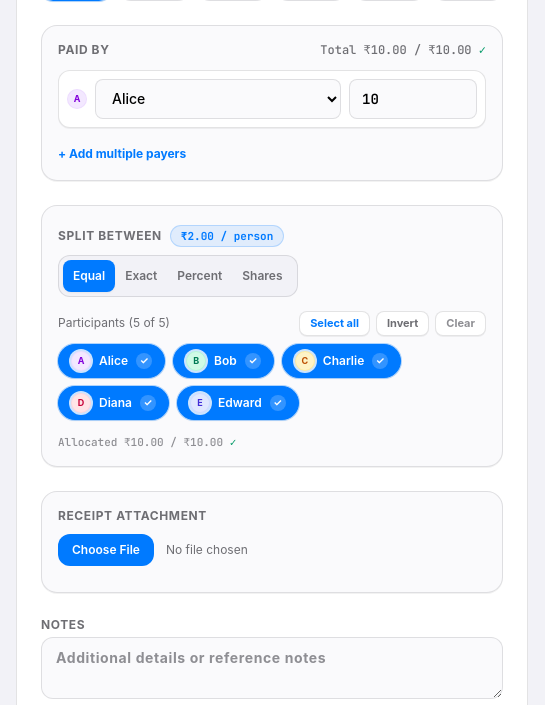
Test: Adversarial Stress Testing: Interactive State Machines & User Events › 2. Participant Chip Combinations and Boundary States › single participant toggle: 1 participant takes 100% of expense in equal mode
(page scrolled)
# Clear all then select only Diana
What coordinates should you click on to do the following:
click the button "Clear"
I would click on:
 (461, 324)
Its box is [435, 311, 486, 336].
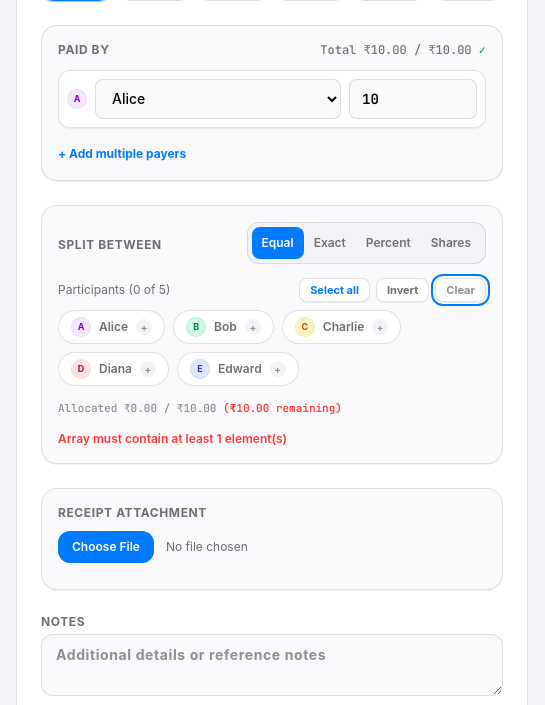
What coordinates should you click on to do the following:
click the button "D Diana +"
I would click on:
 (113, 369)
Its box is [58, 352, 169, 386].
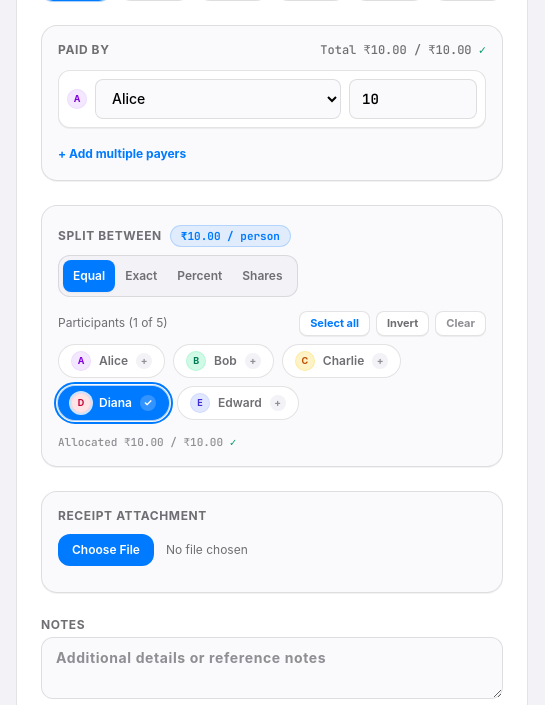
expect the text "Participants (1 of 5)" is shown: met, box [58, 316, 168, 332]
expect the text "Allocated ₹10.00 / ₹10.00 ✓" is shown: met, box [58, 435, 236, 449]
expect the text "₹10.00 / person" is shown: met, box [170, 225, 291, 247]
